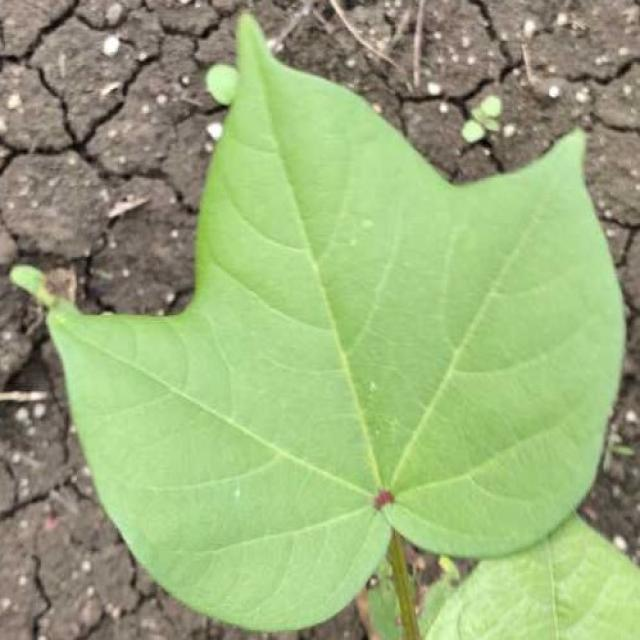Healthy Leaf: (261, 188, 425, 488)
